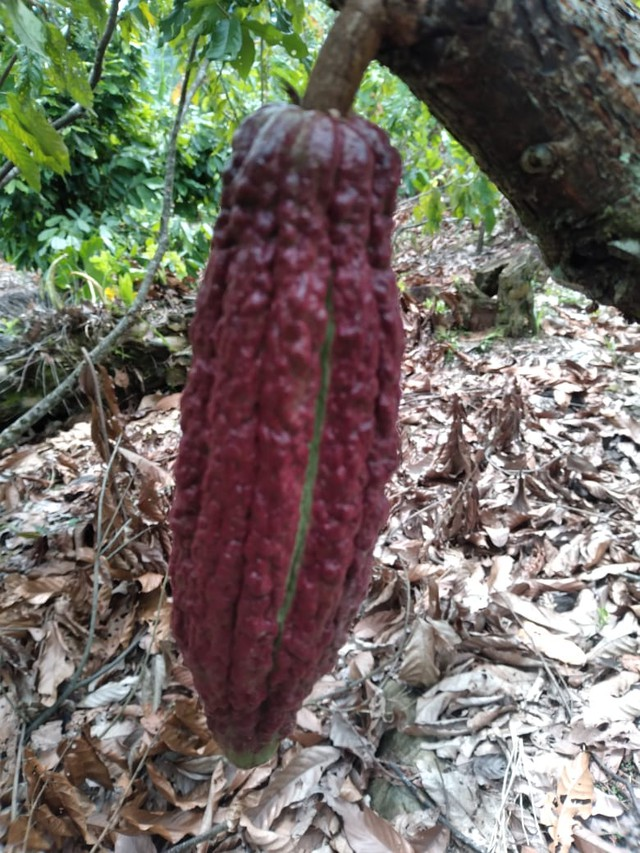Health: (131, 85, 428, 787)
